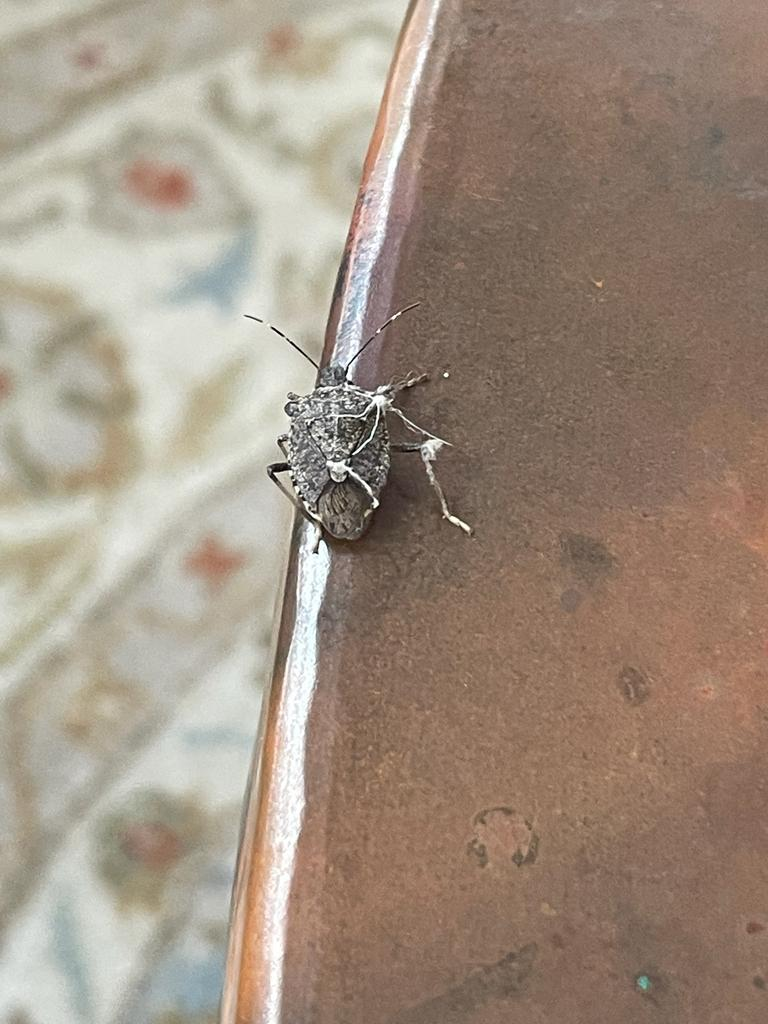stink_bugs: (185, 265, 528, 600)
